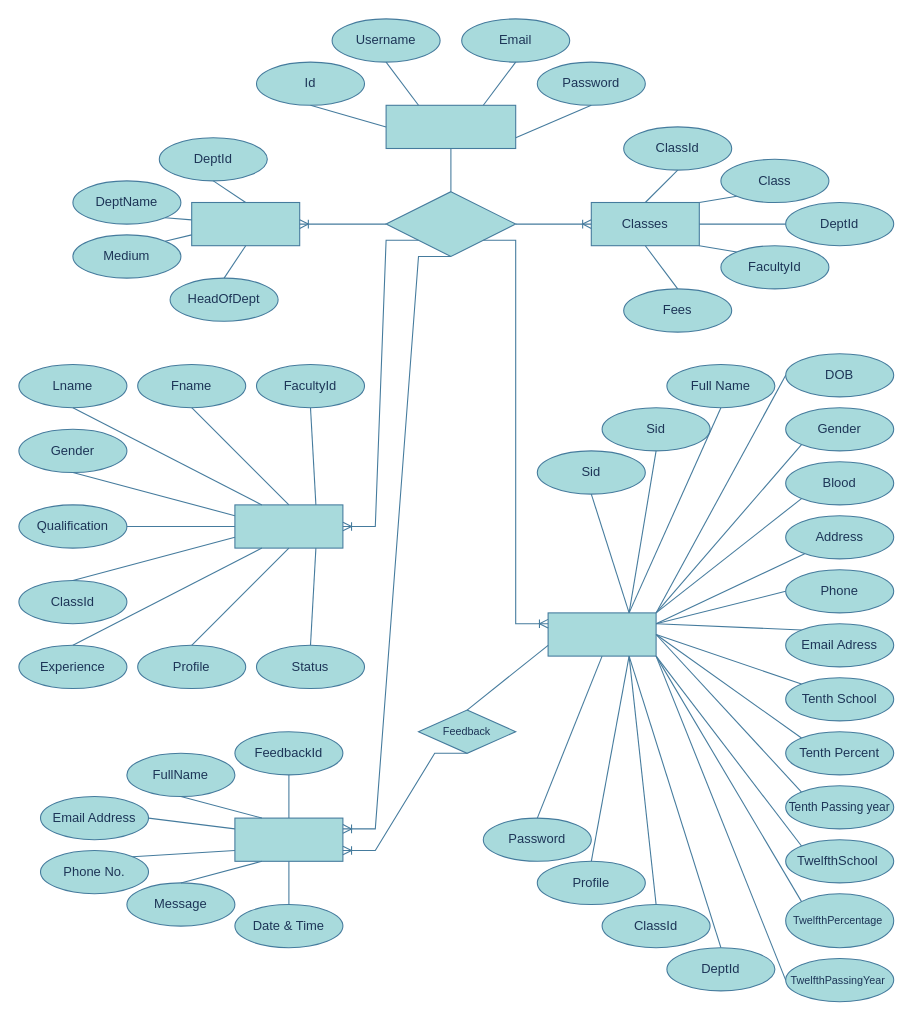
This 913x1021 diagram has some shape labels left out. The centre of each missing label's shape, as x and y in pixels:
Admin: the point at 450,126
Departments: the point at 245,223
Faculty: the point at 288,526
Feedbacks: the point at 288,839
Manage: the point at 450,223
Students: the point at 601,634
